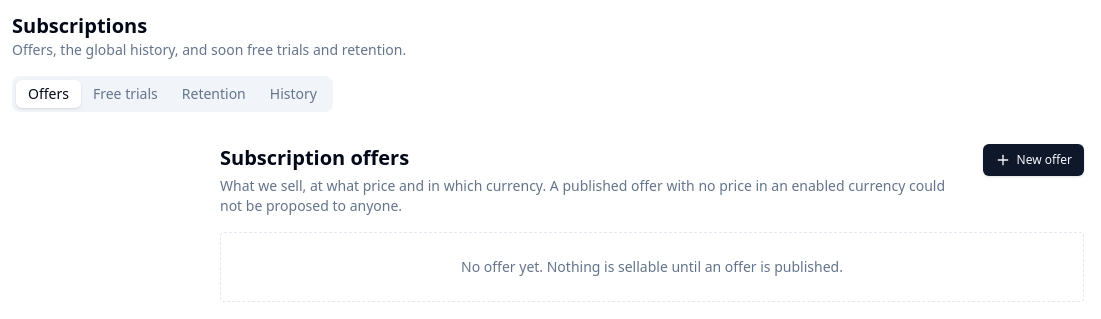
Test: AdminAbonnements › le dit quand l'historique est vide
Click the tab "History" at point(293, 94), box [258,80,329,108]
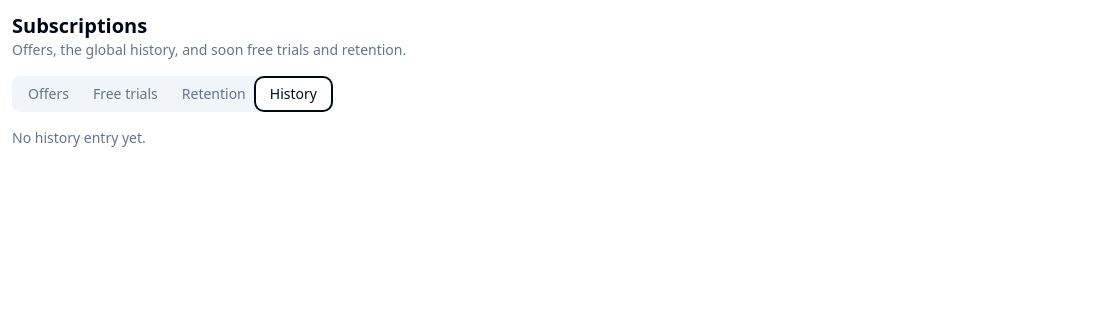
Expected: the text "No history entry yet." is shown, [12,128,146,147]
